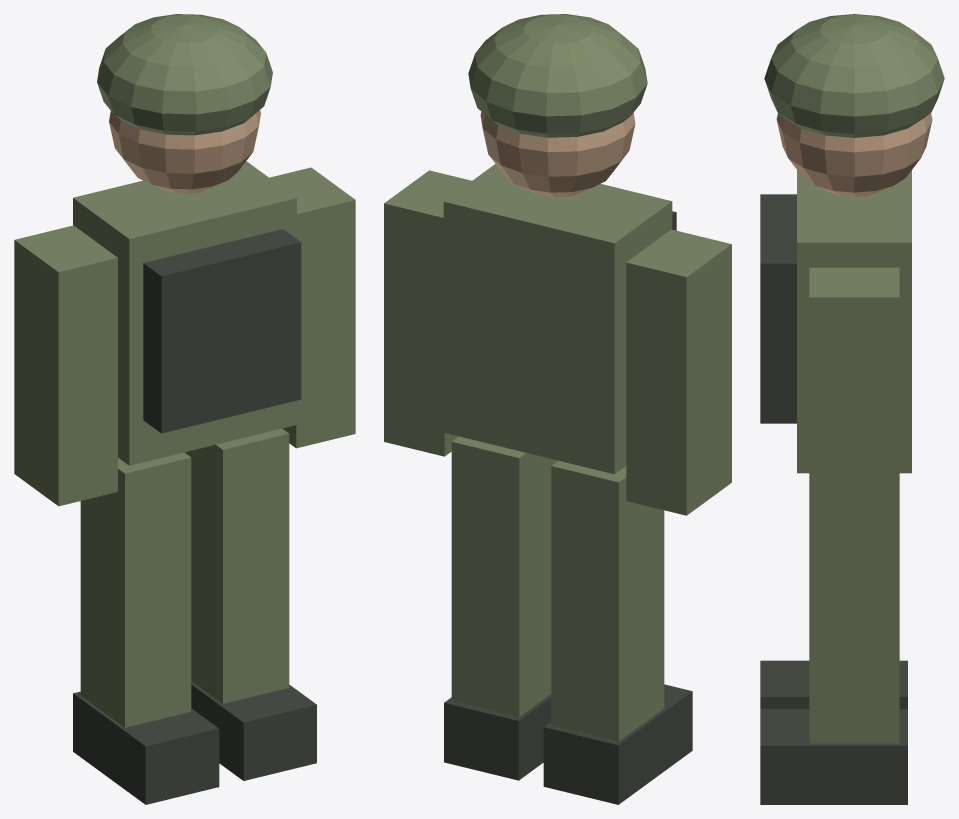
File: service-person.glb
3 views of the same model, side by side, from view 1: azimuth 30°, elevation 25°; view 2: azimuth 150°, elevation 25°; view 3: azimuth 270°, elevation 25° (orthographic).
Visible parts, largest first — view 1: Vest, Leg, Arm, Leg.001, Torso, Sphere.001, Arm.001, Boot, Boot.001, Sphere; view 2: Torso, Leg, Arm, Leg.001, Sphere.001, Arm.001, Boot, Sphere, Boot.001; view 3: Arm.001, Leg.001, Sphere.001, Torso, Boot.001, Vest, Sphere, Boot.
Part boxes in pixels (<box>): Vest: <box>143,229,301,433</box>; Leg: <box>80,452,191,727</box>; Arm: <box>14,225,117,506</box>; Leg.001: <box>185,428,289,703</box>; Torso: <box>73,161,296,465</box>; Sphere.001: <box>97,14,272,135</box>; Arm.001: <box>269,167,355,448</box>; Boot: <box>73,691,219,804</box>; Boot.001: <box>191,681,316,780</box>; Sphere: <box>109,110,260,193</box>; Torso: <box>443,164,672,474</box>; Leg: <box>551,460,664,741</box>; Arm: <box>626,229,731,515</box>; Leg.001: <box>451,436,557,716</box>; Sphere.001: <box>468,14,647,137</box>; Arm.001: <box>384,170,471,456</box>; Boot: <box>543,684,692,804</box>; Sphere: <box>480,112,635,197</box>; Boot.001: <box>444,694,551,780</box>; Arm.001: <box>809,267,899,534</box>; Leg.001: <box>809,535,899,743</box>; Sphere.001: <box>764,14,944,137</box>; Torso: <box>797,170,911,473</box>; Boot.001: <box>760,709,907,804</box>; Vest: <box>760,194,796,423</box>; Sphere: <box>776,113,932,197</box>; Boot: <box>760,660,907,708</box>.
Size of the model in its own units: 0.85 by 1.98 by 0.45.
